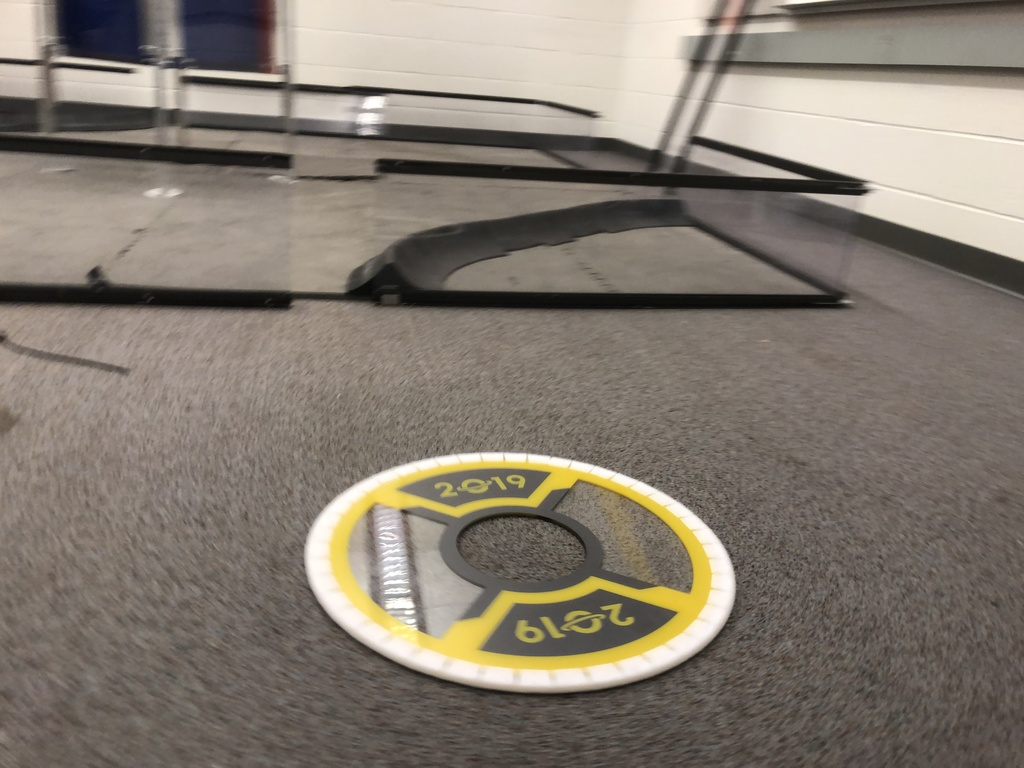hatch_panel: (293, 436, 752, 705)
